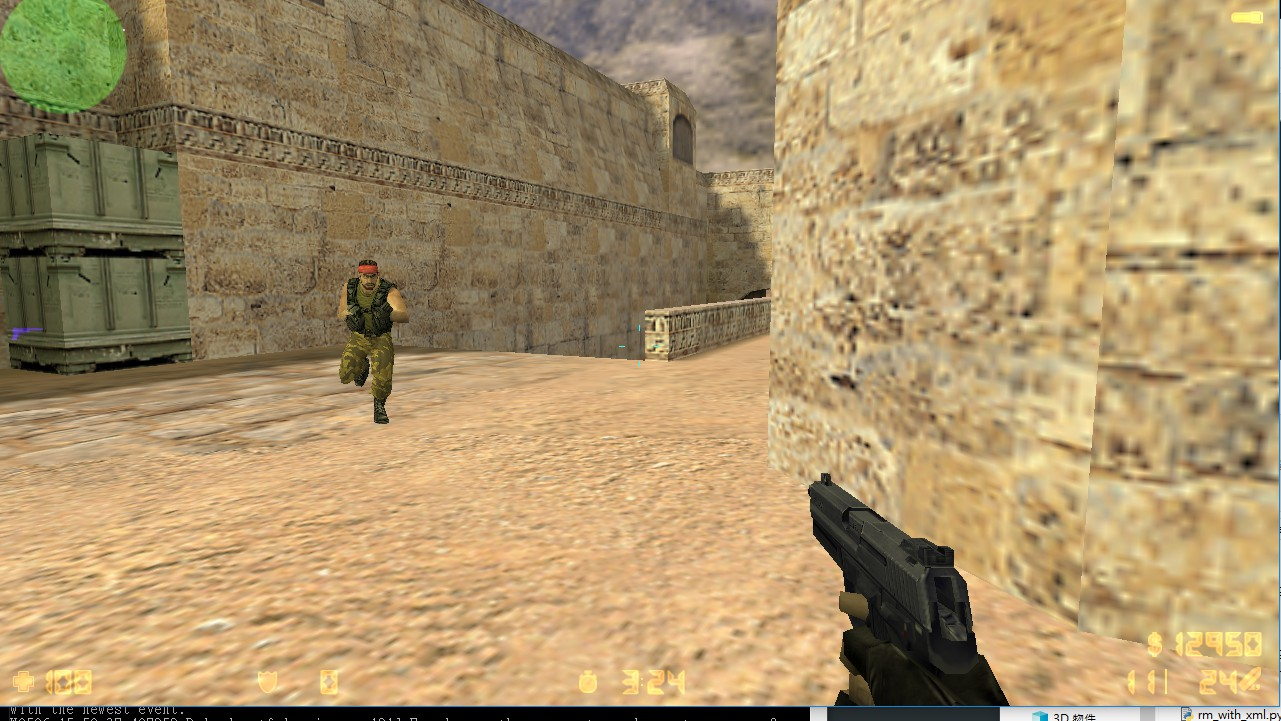person: (331, 247, 399, 426)
